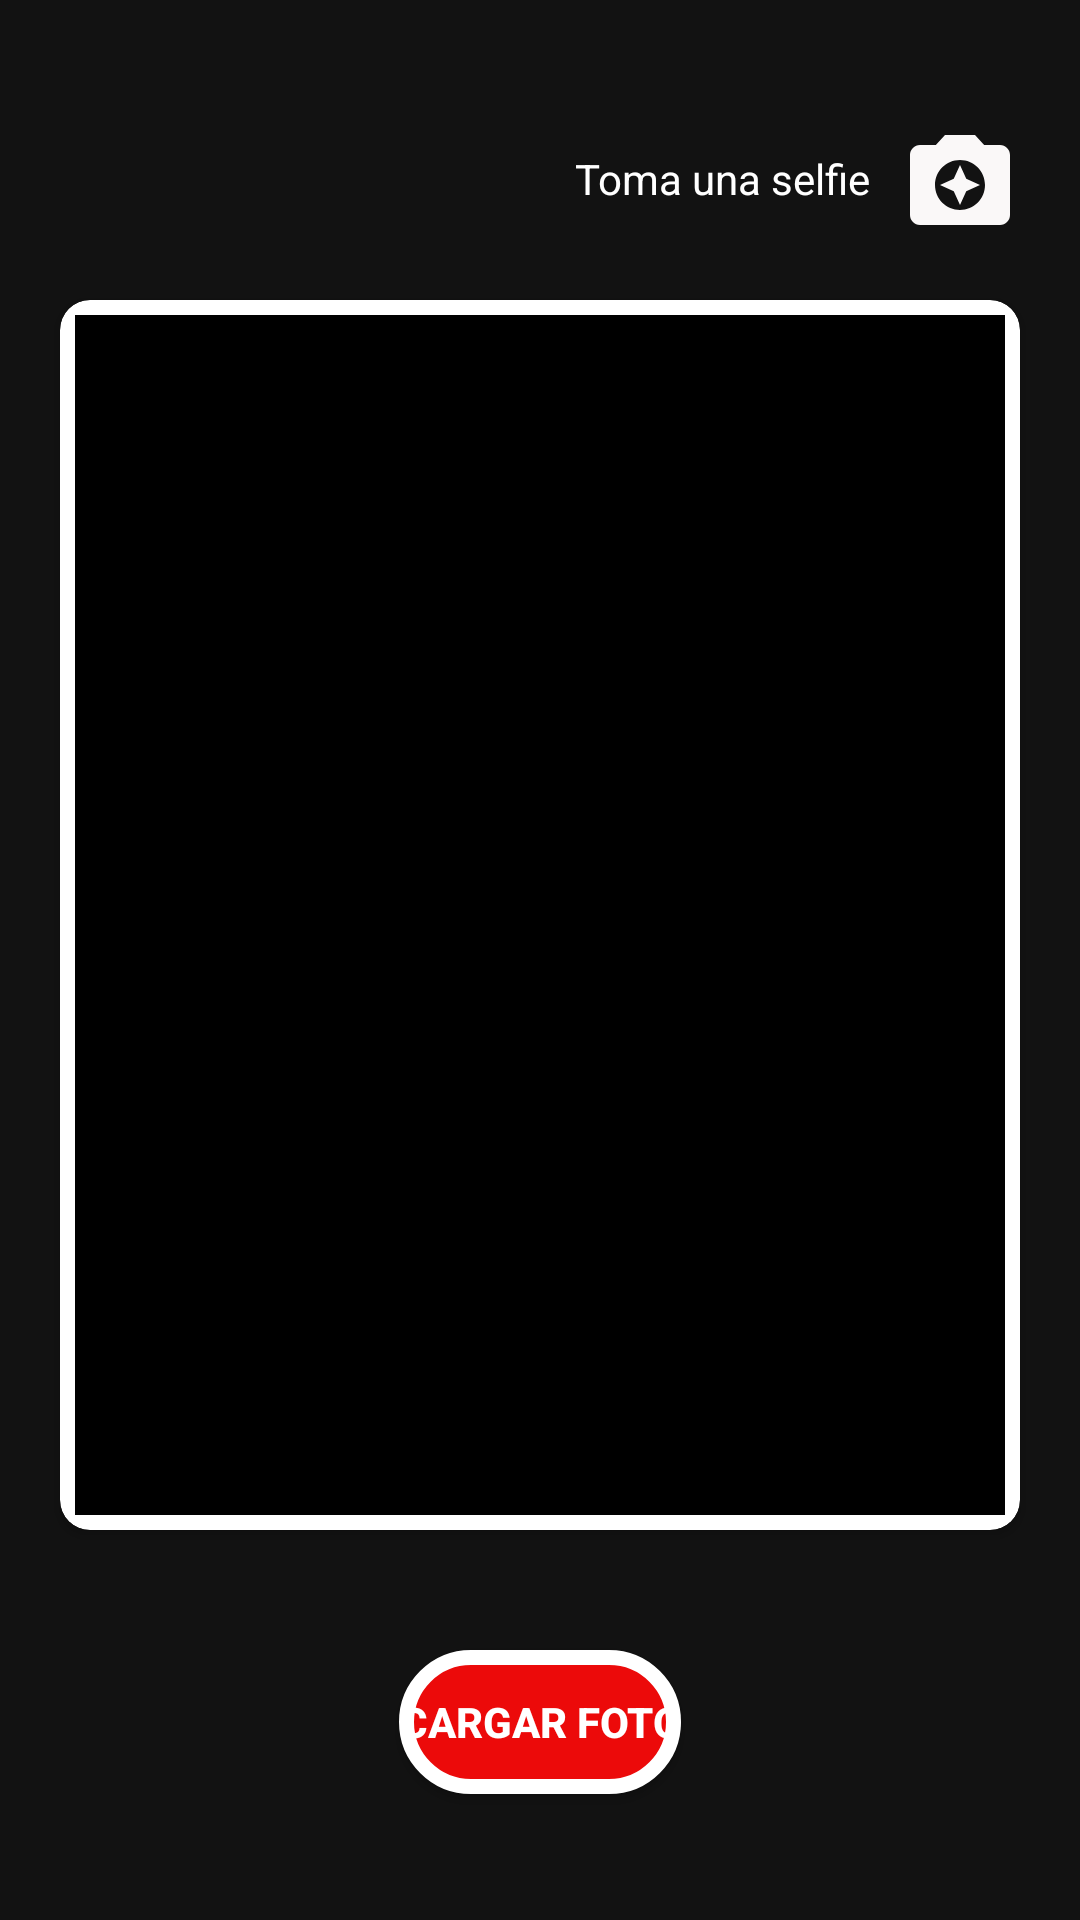

Icons on this 1080px x 1920px Android screen, each with the point to tap as (x=x, y=y):
camera: (x=960, y=180)
